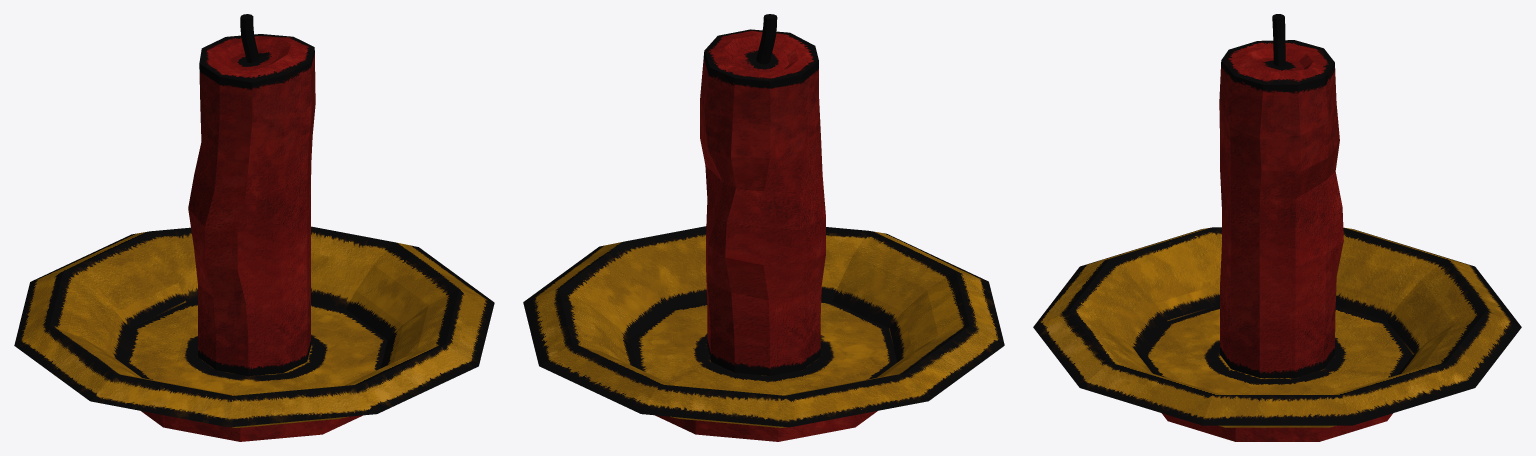
The model's file is Vela.fbx.
3 views of the same model, side by side, from view 1: azimuth 30°, elevation 25°; view 2: azimuth 150°, elevation 25°; view 3: azimuth 270°, elevation 25° (orthographic).
Parts seen in each view (by area): view 1: Vela; view 2: Vela; view 3: Vela.
Part boxes in pixels (left/top/right/bottom): Vela: left=14, top=14, right=494, bottom=441; Vela: left=523, top=14, right=1004, bottom=441; Vela: left=1033, top=14, right=1521, bottom=441.
Size of the model in its own units: 34.33 by 29.94 by 36.09.
1 material, 1 textured.
